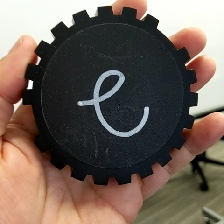gear: (20, 4, 200, 188)
missing: (141, 11, 192, 65), (21, 89, 49, 153)
